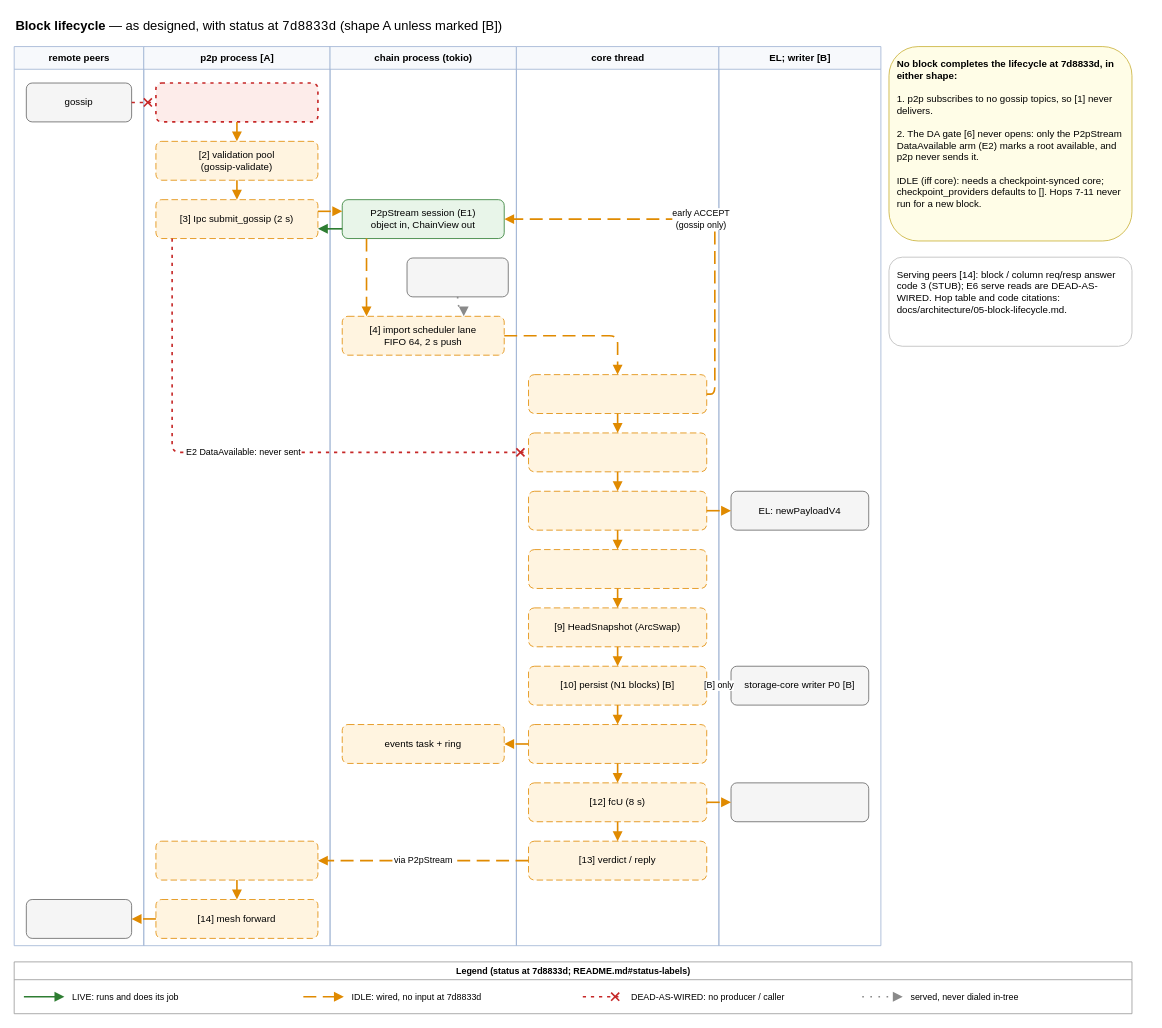
Some shapes in this 1162 by 1028 pixel diagram are drawn without their labels. The shapes that lost their labels are listed below. From the top down, each one's centre as x and y in pixels, then its label:
pixel 236 102: [1] gossip receive 0 topics: DEAD-AS-WIRED
pixel 457 277: ImportBlock RPC (operator, grpcurl)
pixel 617 394: [5] decode, root, cheap checks
pixel 617 452: [6] DA gate: never opens miss: pending_da, 4-slot expiry
pixel 617 510: [7] STF + newPayload (8 s)
pixel 617 568: [8] fork choice (proto-array)
pixel 617 743: [11] events
pixel 799 802: EL: fcUV3
pixel 236 860: [13] report to gossipsub + peer score
pixel 79 918: peers
